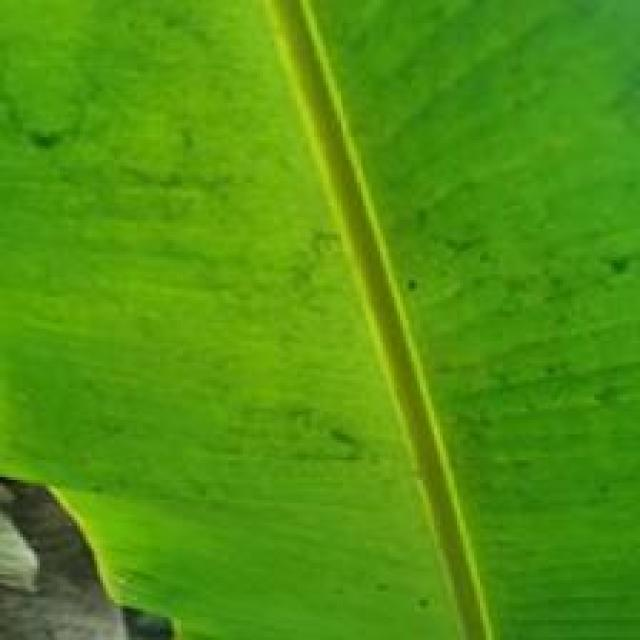Black_leaf_spot: (0, 0, 635, 626)
